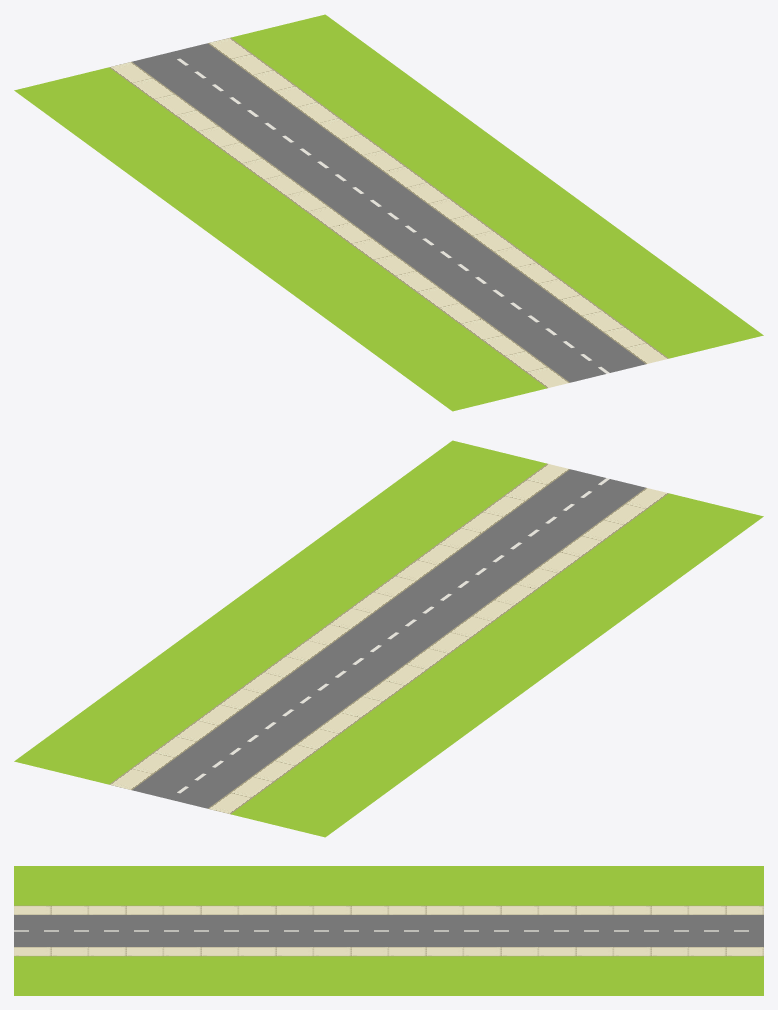
3 views of the same model, one above another, from view 1: azimuth 30°, elevation 25°; view 2: azimuth 150°, elevation 25°; view 3: azimuth 270°, elevation 25° (orthographic). The views are drawn at different scales.
Parts seen in each view (by area): view 1: 平面_2; view 2: 平面_2; view 3: 平面_2.
Part boxes in pixels (left/top/right/bottom): 平面_2: left=14, top=14, right=763, bottom=411; 平面_2: left=14, top=440, right=763, bottom=837; 平面_2: left=14, top=866, right=763, bottom=995.
Size of the model in its own units: 4100 by 0 by 10000.
Materials: 4 (1 with a texture image).
